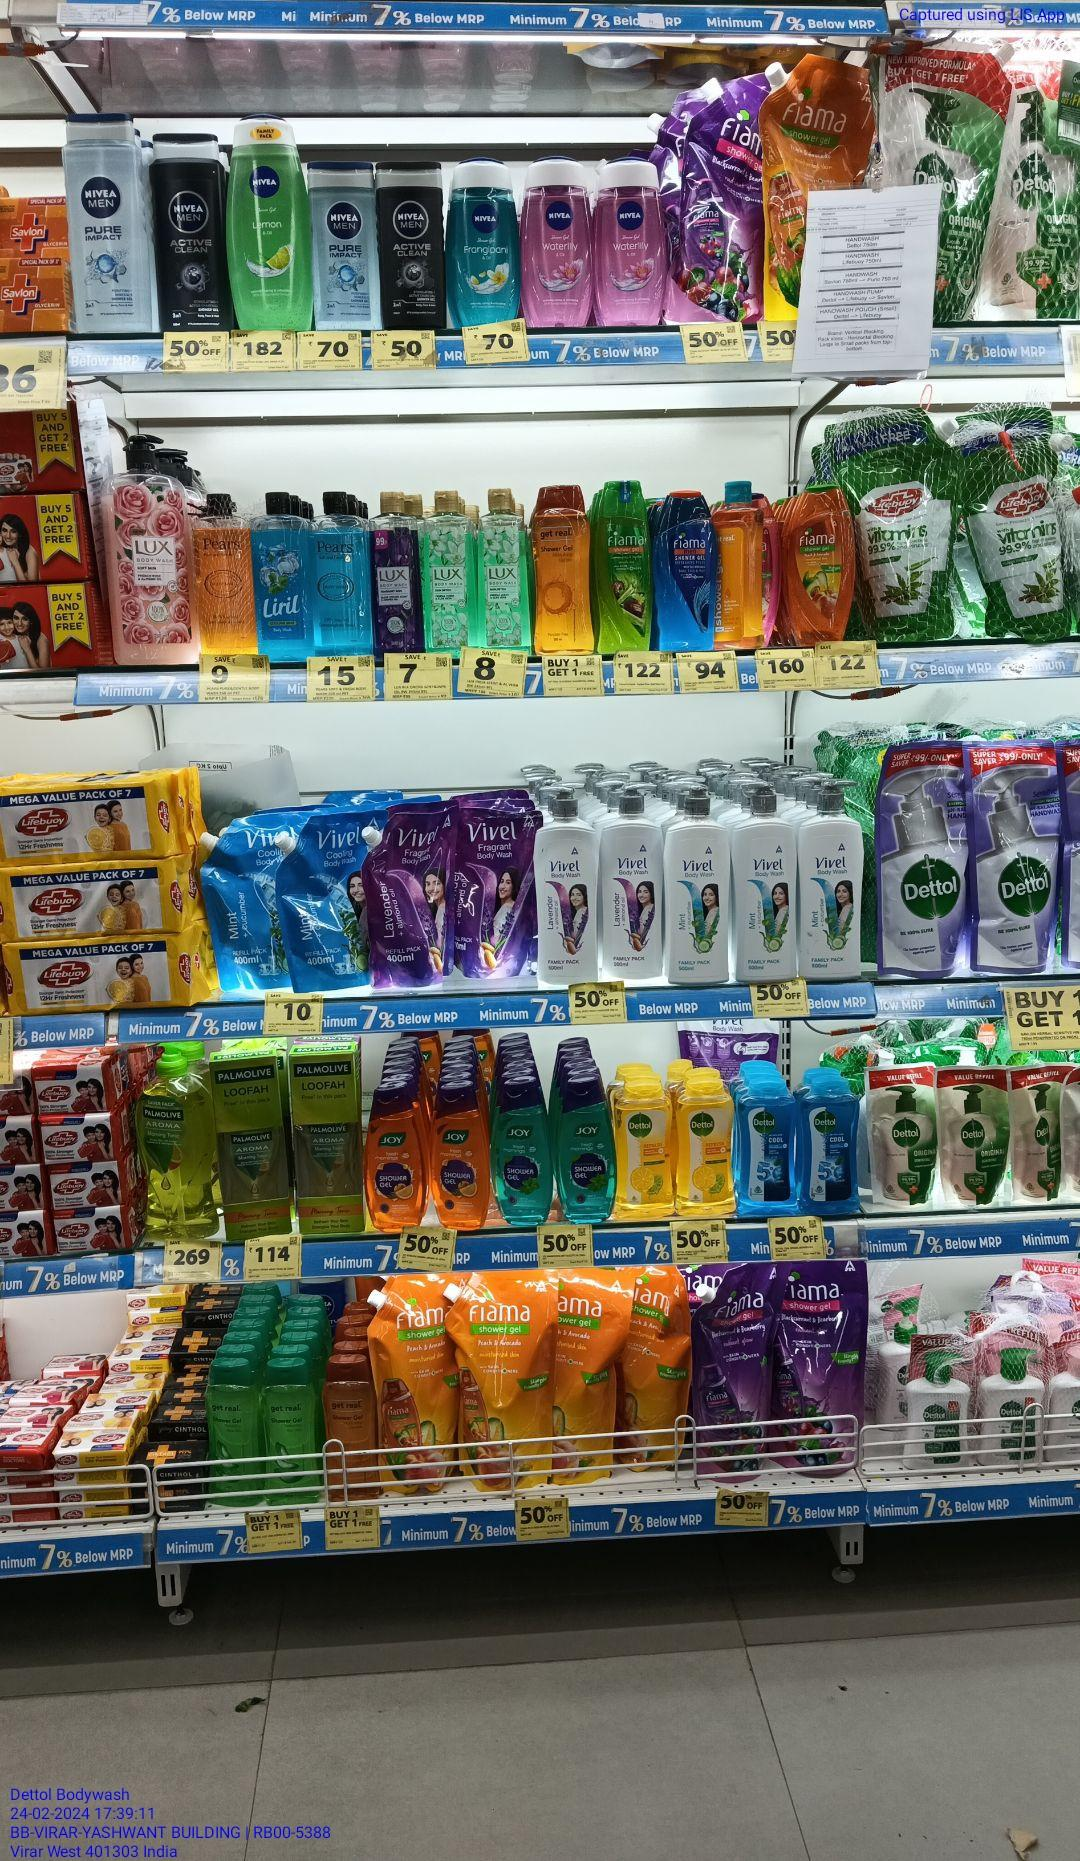Dettol_Bodywash_Cool: (743, 1081, 798, 1217), (804, 1080, 859, 1213)
Dettol_Bodywash_Refresh: (678, 1082, 735, 1218), (617, 1086, 674, 1221)
Fiama_Shower_Gel_Peach_and_Avocado_250ML: (793, 485, 856, 643)
Get_Real_Shower_Gel_Moisturising_Glycerin_300ML: (534, 485, 586, 658), (324, 1358, 373, 1496)
Joy_Shower_Gel_Mandarin_and_Lemongrass_250ML: (365, 1086, 422, 1233), (429, 1089, 489, 1229)
Joy_Shower_Gel_Mint_and_Eucalyptus_250ML: (491, 1081, 553, 1225), (561, 1081, 617, 1220)
Liril_Cooling_Mint_Body_Wash_250ML: (249, 495, 310, 663)
Lux_Black_Orchid_Scent_and_Juniper_Oil_Body_Wash_245ML: (370, 492, 422, 654)
Lux_Body_Wash_Skin_Detox_Freesia_Scent_and_Alove_Vera_245ML: (474, 487, 527, 645), (426, 491, 471, 646)
Nivea_Shower_Gel_Frangipani_and_Oil_250ML: (453, 161, 517, 328)
Nivea_Shower_Gel_Lemon_and_Oil_250ML: (225, 113, 310, 330)
Nivea_Shower_Gel_Waterlily_and_Oil_250ML: (603, 157, 666, 328), (531, 158, 591, 325)
Pears_Pure_Glycerin_and_Mint_Extracts_Body_Wash_250ML: (312, 491, 368, 654)
